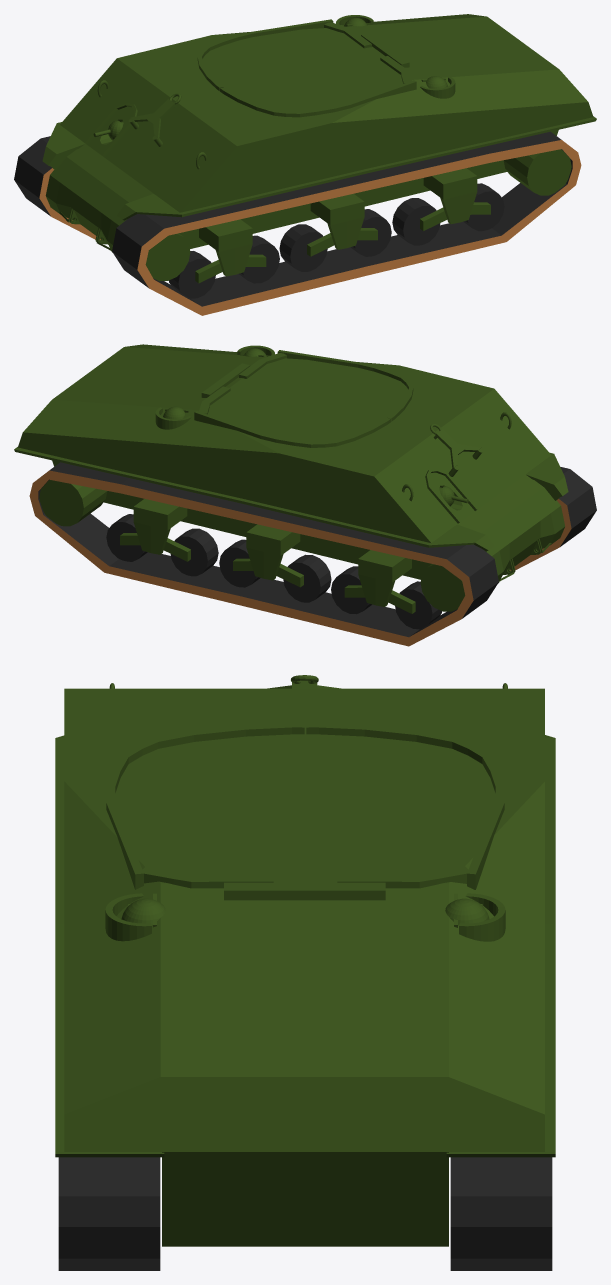
File: JamboKorpus.fbx
3 views of the same model, one above another, from view 1: azimuth 30°, elevation 25°; view 2: azimuth 150°, elevation 25°; view 3: azimuth 270°, elevation 25° (orthographic). The views are drawn at different scales.
Visible parts, largest first — view 1: Main, Cube.002, Cylinder.004, Cube.001, Cube.016, Cube.014, Cube.007, Cube.017, Cube, Cube.019; view 2: Main, Cube.002, Cylinder.004, Cube.001, Cube.016, Cube.014, Cube.007, Cube.017, Cube, Cube.019; view 3: Main, Cube.002, Cube.001, Cube.016, Cube.014, Cube.017, Cube.019.
Boxes of the visible parts, left/top/right/bottom form: Main: left=45, top=14, right=593, bottom=252; Cube.002: left=14, top=131, right=581, bottom=315; Cylinder.004: left=145, top=149, right=571, bottom=298; Cube.001: left=42, top=116, right=596, bottom=220; Cube.016: left=197, top=19, right=416, bottom=117; Cube.014: left=336, top=15, right=455, bottom=98; Cube.007: left=128, top=93, right=181, bottom=146; Cube.017: left=324, top=22, right=411, bottom=83; Cube: left=84, top=102, right=137, bottom=157; Cube.019: left=361, top=33, right=409, bottom=67; Main: left=18, top=344, right=565, bottom=583; Cube.002: left=29, top=462, right=596, bottom=646; Cylinder.004: left=39, top=480, right=465, bottom=629; Cube.001: left=14, top=447, right=568, bottom=551; Cube.016: left=194, top=350, right=413, bottom=447; Cube.014: left=155, top=345, right=274, bottom=429; Cube.007: left=430, top=424, right=482, bottom=476; Cube.017: left=199, top=353, right=286, bottom=414; Cube: left=425, top=468, right=477, bottom=523; Cube.019: left=201, top=363, right=250, bottom=397; Main: left=64, top=688, right=544, bottom=1246; Cube.002: left=58, top=1157, right=552, bottom=1270; Cube.001: left=55, top=735, right=555, bottom=1157; Cube.016: left=106, top=723, right=504, bottom=889; Cube.014: left=105, top=893, right=505, bottom=941; Cube.017: left=142, top=866, right=468, bottom=888; Cube.019: left=224, top=882, right=385, bottom=900.
Bounding box in the file's own units: 295 × 103 × 140.
